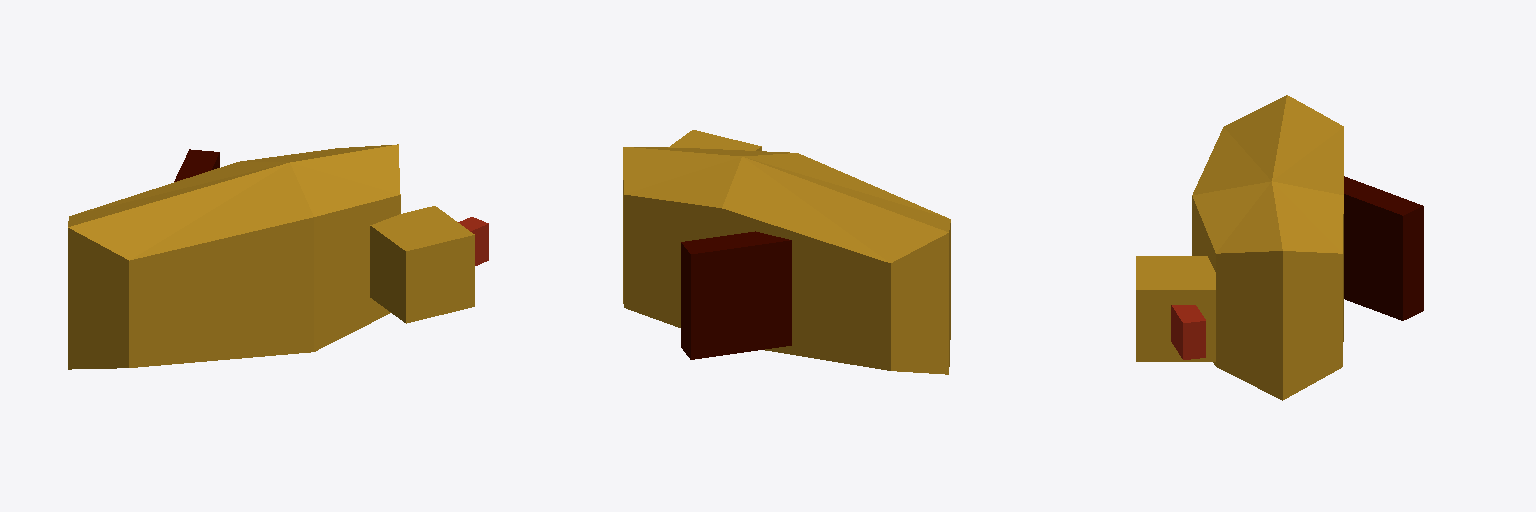
Rendered from duck_baby.obj.
3 renders of one model, left to right at view 1: azimuth 30°, elevation 25°; view 2: azimuth 150°, elevation 25°; view 3: azimuth 270°, elevation 25°, orthographic.
Bounding box in the file's own units: 1.07 × 0.4945 × 0.7218.